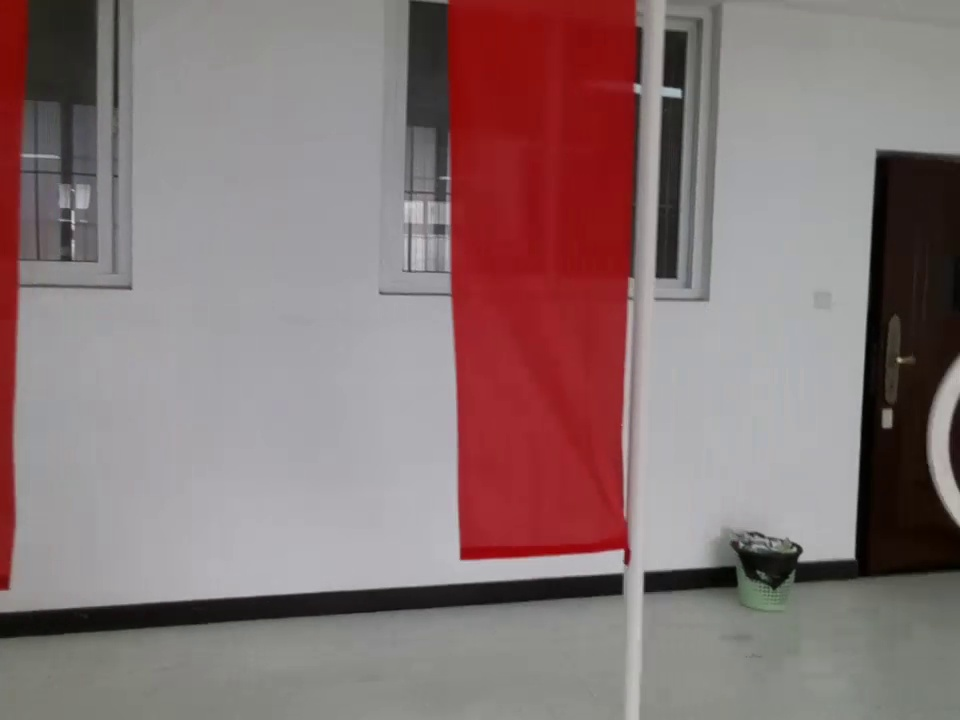qi: (441, 1, 667, 588)
